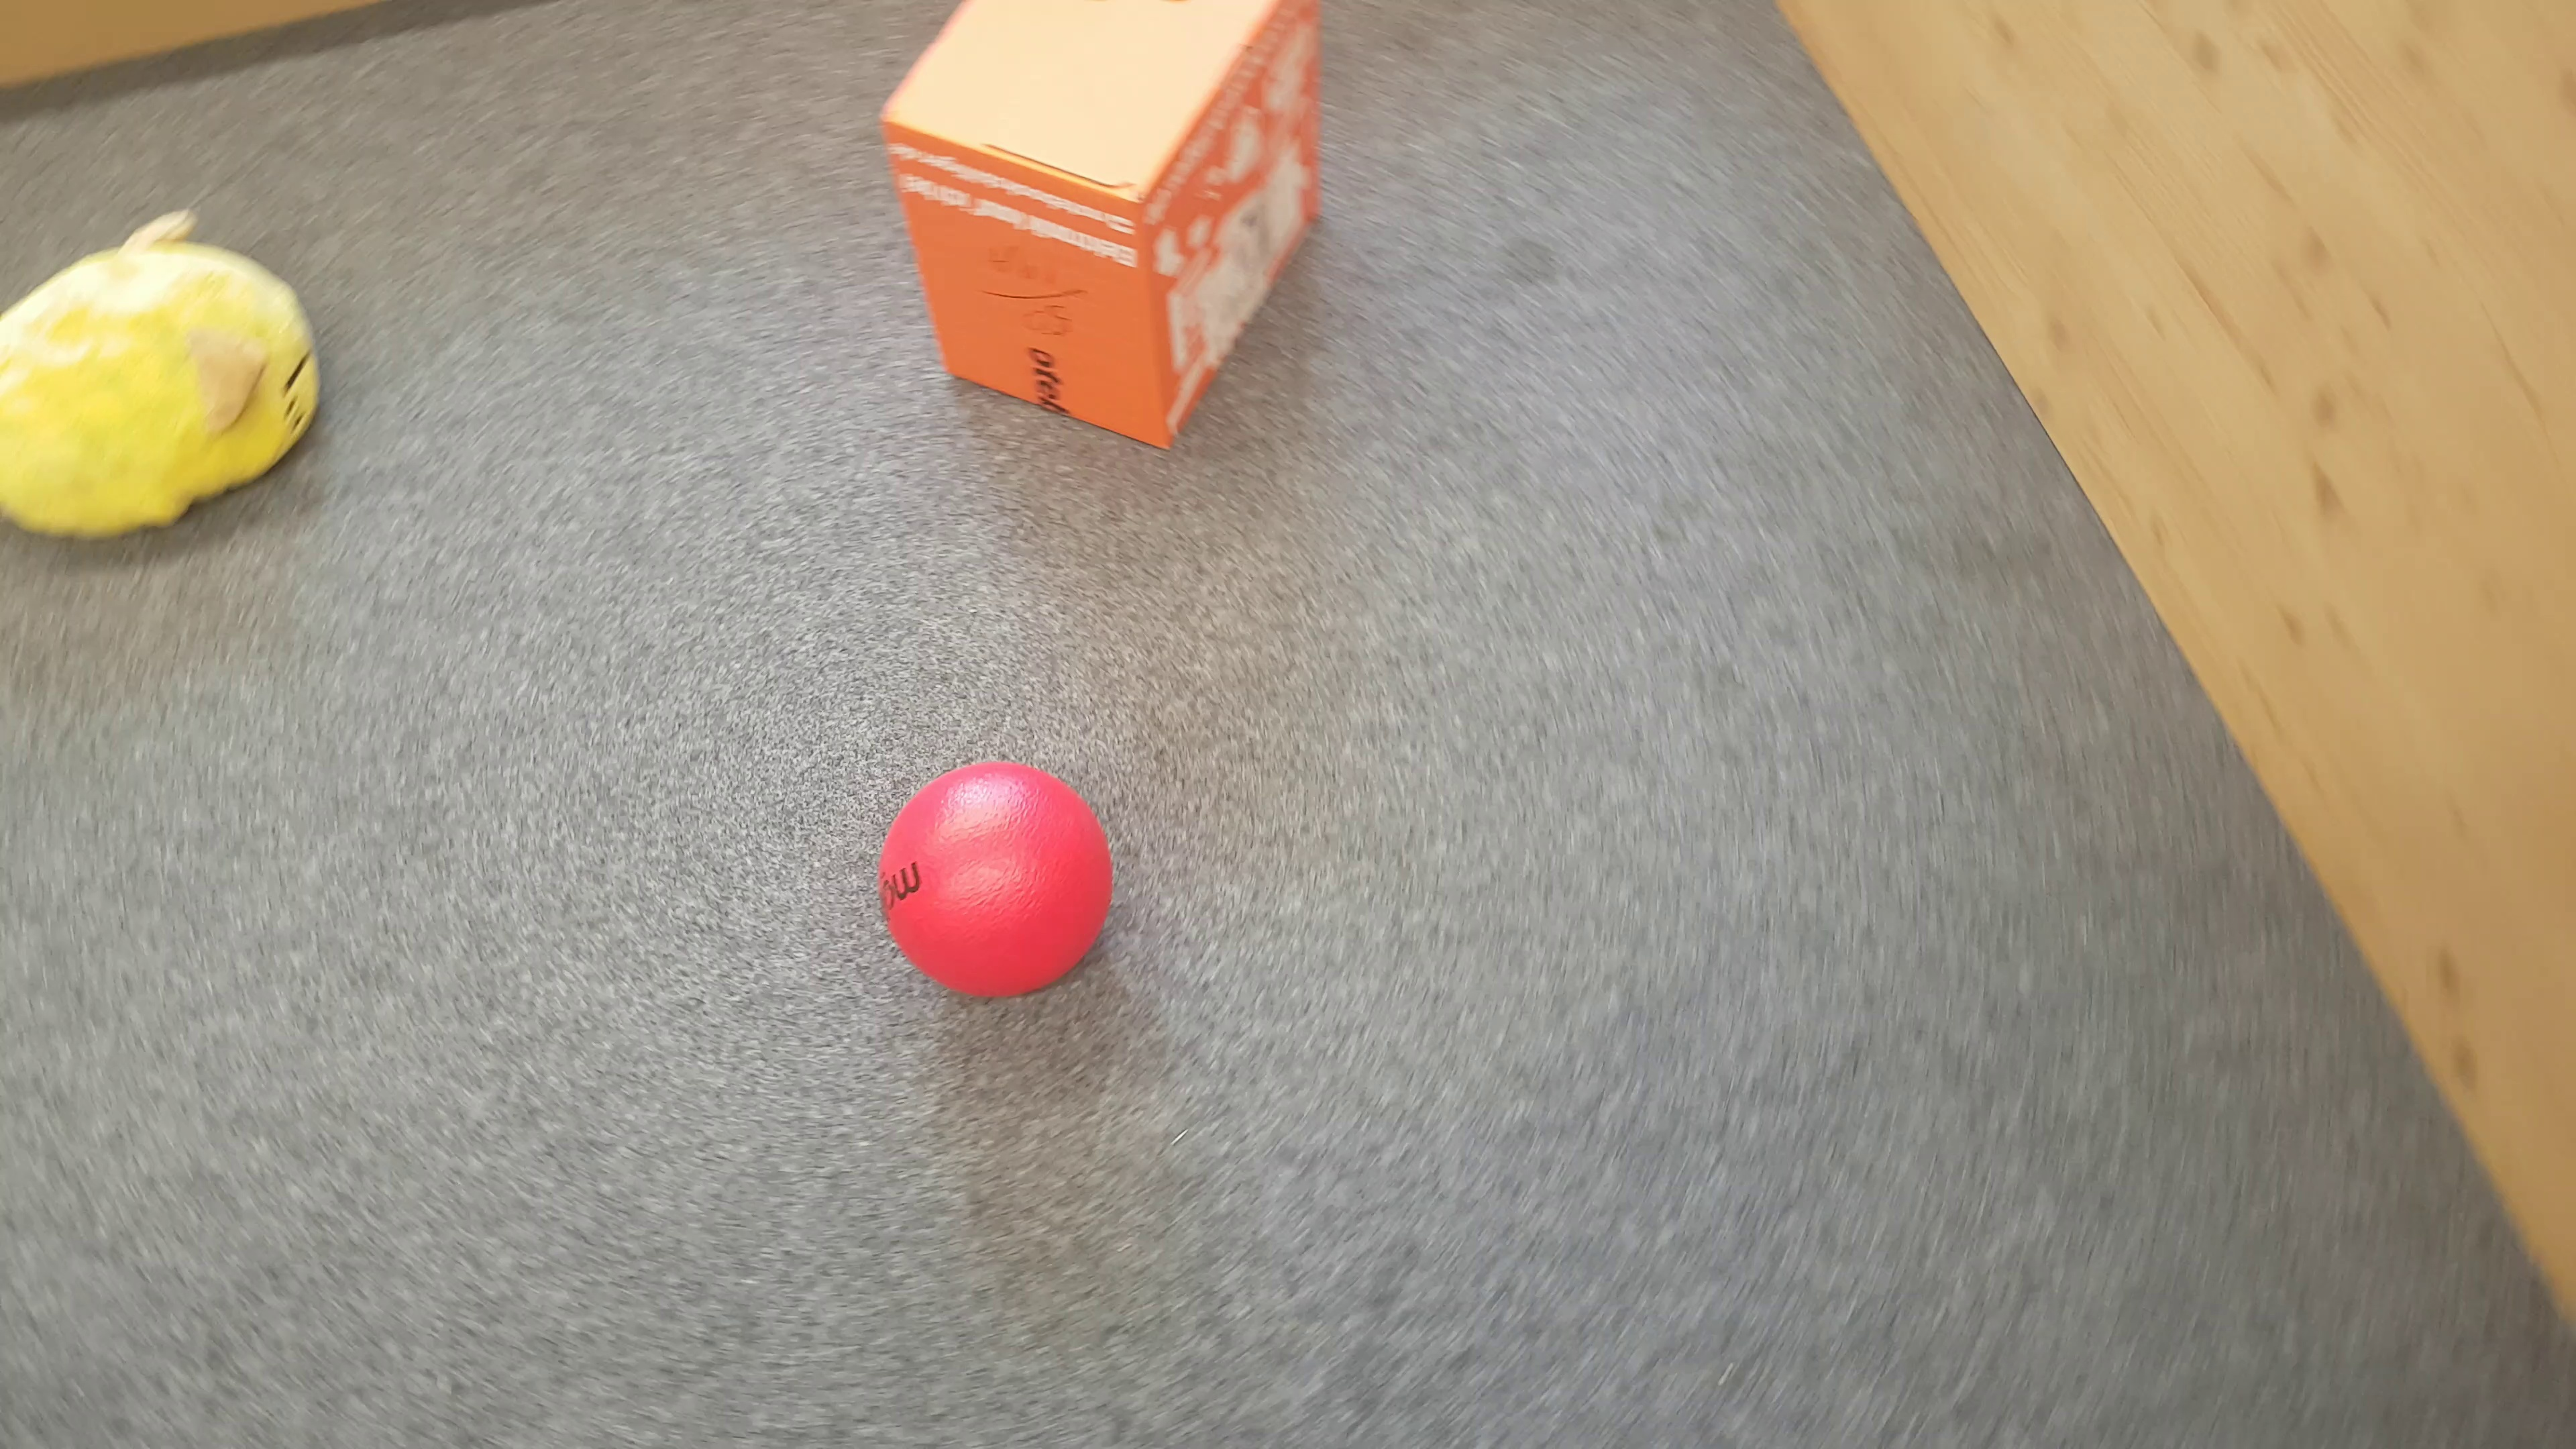grasp: (4, 209, 327, 543)
kick: (879, 763, 1115, 1001)
push: (879, 2, 1327, 448)
